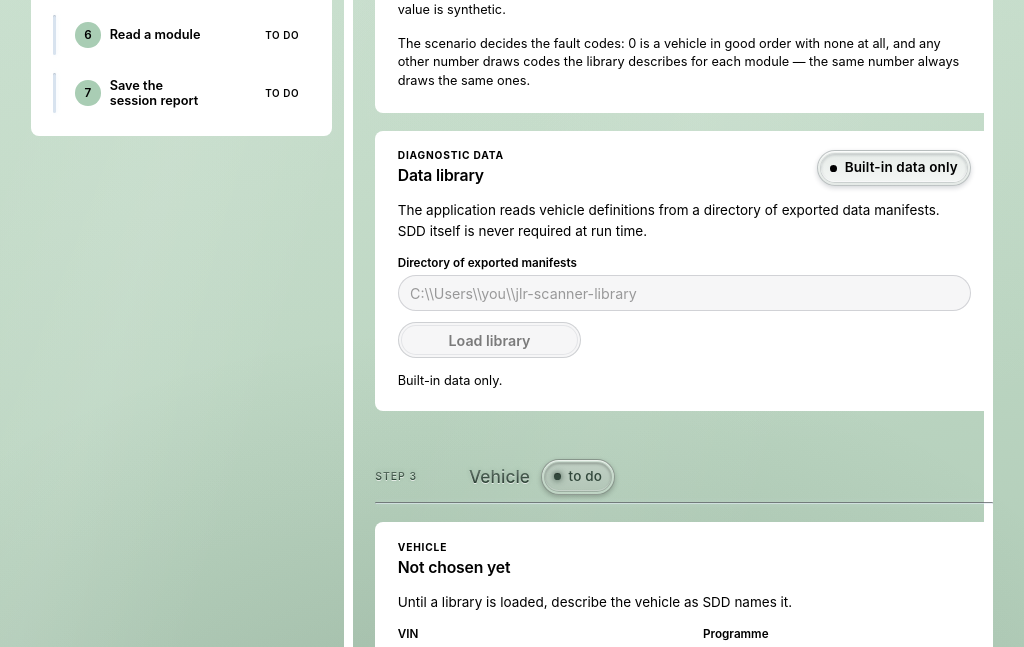
Test: data library and module survey › loads a directory through the client and reports what it holds
(page scrolled)
Expected: the text "Built-in data only." is shown, [398,373,502,388]
Expected: the button "Load library" is disabled, [398,322,581,358]
Type "D:\\library" into the field labelled "Directory of exported manifests". click: (684, 293)
box: [398,275,971,311]
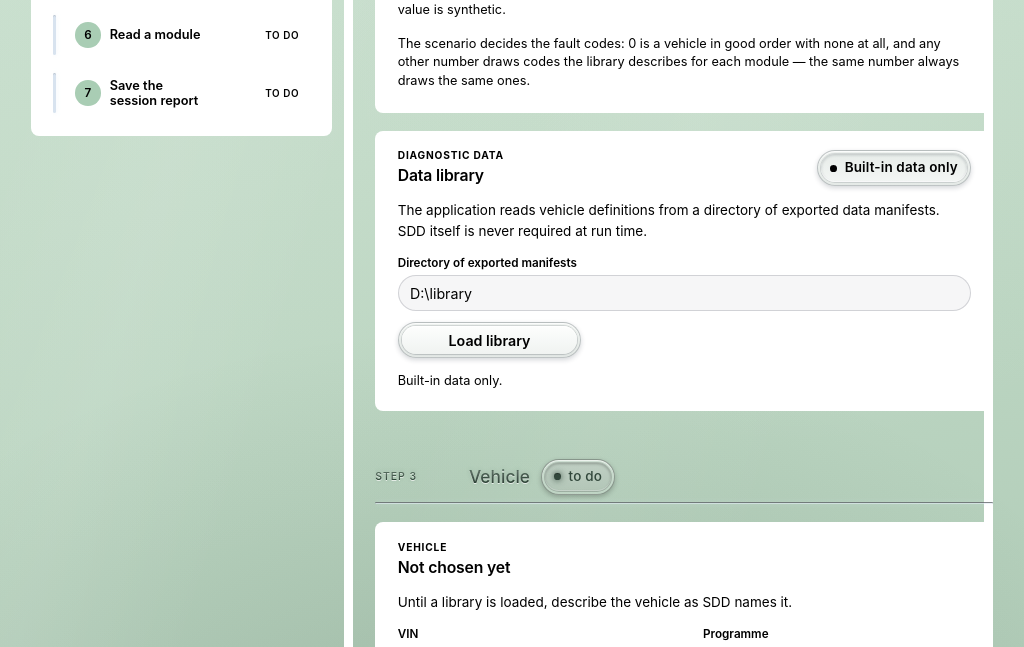
Expected: the button "Load library" is enabled
Click the button "Load library". click: (489, 340)
box: [398,322,581,358]
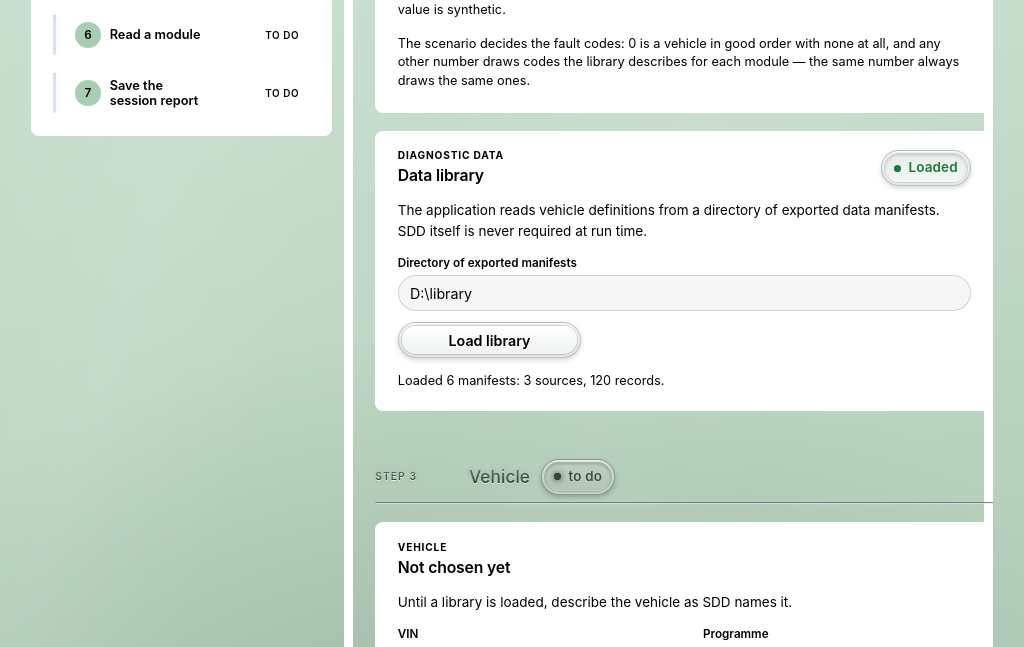
Expected: the text "Loaded 6 manifests: 3 sources, 120 records." is shown, [398,373,664,388]
Expected: the text "Loaded" is shown, [908,161,958,175]
